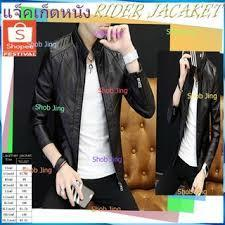jacket: (28, 28, 150, 185), (162, 57, 219, 176)
